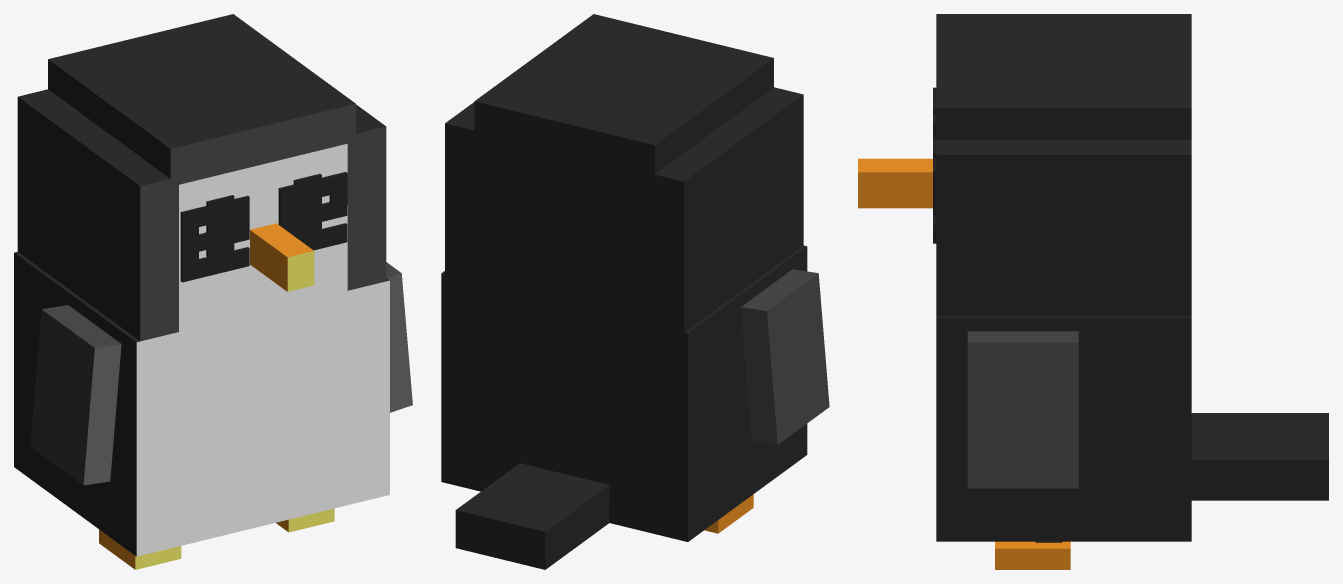
3 views of the same model, side by side, from view 1: azimuth 30°, elevation 25°; view 2: azimuth 150°, elevation 25°; view 3: azimuth 270°, elevation 25° (orthographic). The views are drawn at different scales.
Visible parts, largest first — view 1: Ch_182_Head, Ch_182, Ch_182_Wing_L, Ch_182_Eye_03_L, Ch_182_Eye_03_R, Ch_182_Wing_R, Ch_182_Eye_01, Ch_182_Leg_L, Ch_182_Eye_02, Ch_182_Leg_R; view 2: Ch_182_Head, Ch_182, Ch_182_Wing_L, Ch_182_Leg_L; view 3: Ch_182_Head, Ch_182, Ch_182_Wing_R, Ch_182_Leg_R.
Part boxes in pixels (x1,y1,x2,y2): Ch_182_Head: (17, 14, 386, 341); Ch_182: (14, 251, 389, 556); Ch_182_Wing_L: (30, 305, 121, 485); Ch_182_Eye_03_L: (180, 195, 249, 282); Ch_182_Eye_03_R: (278, 172, 347, 250); Ch_182_Wing_R: (386, 262, 412, 412); Ch_182_Eye_01: (206, 174, 321, 257); Ch_182_Leg_L: (99, 529, 181, 569); Ch_182_Eye_02: (185, 201, 344, 251); Ch_182_Leg_R: (276, 508, 334, 532); Ch_182_Head: (445, 14, 803, 332); Ch_182: (441, 245, 807, 569); Ch_182_Wing_L: (741, 269, 829, 444); Ch_182_Leg_L: (704, 494, 753, 533); Ch_182_Head: (858, 14, 1191, 316); Ch_182: (936, 316, 1328, 541); Ch_182_Wing_R: (967, 331, 1078, 488); Ch_182_Leg_R: (995, 541, 1070, 569).
Size of the model in its own units: 8.18 by 10.43 by 9.72.
